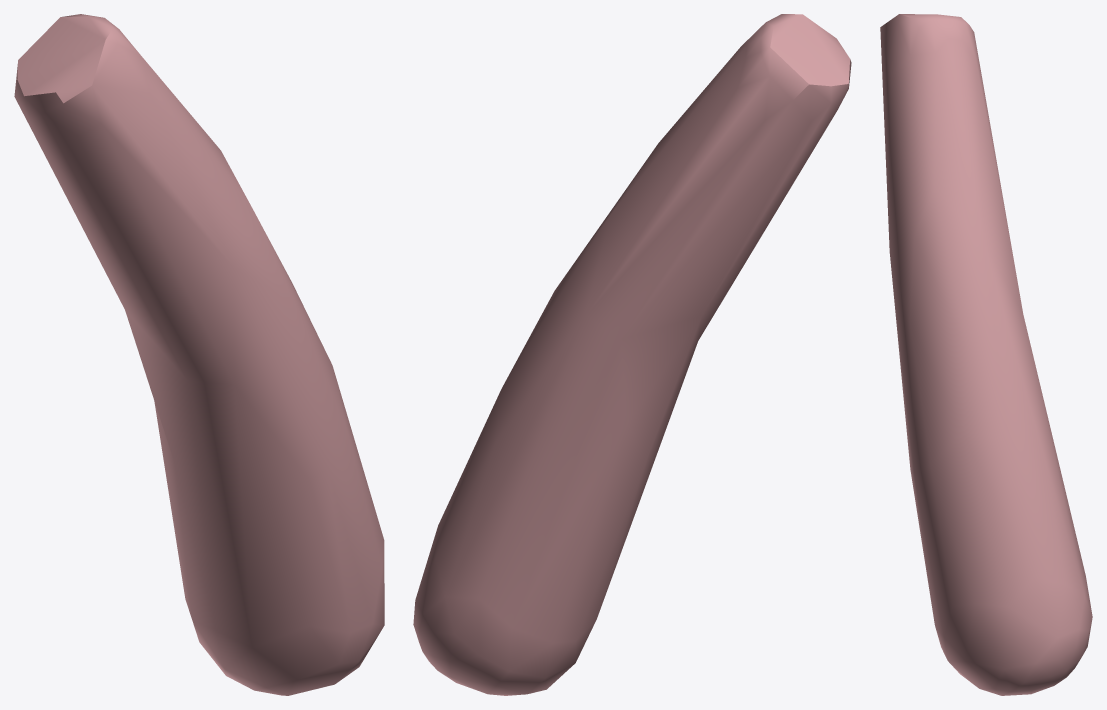
The model's file is fma68213_fj6571.glb.
The picture shows the model from 3 angles, left to right: view 1: azimuth 30°, elevation 25°; view 2: azimuth 150°, elevation 25°; view 3: azimuth 270°, elevation 25°; orthographic projection. The views are drawn at different scales.
Parts seen in each view (by area): view 1: FMA68213_FJ6571; view 2: FMA68213_FJ6571; view 3: FMA68213_FJ6571.
Part boxes in pixels (x1,y1,x2,y2): FMA68213_FJ6571: (14,14,384,695); FMA68213_FJ6571: (413,14,851,695); FMA68213_FJ6571: (880,14,1092,695).
Size of the model in its own units: 0.00556 by 0.00985 by 0.00328.
